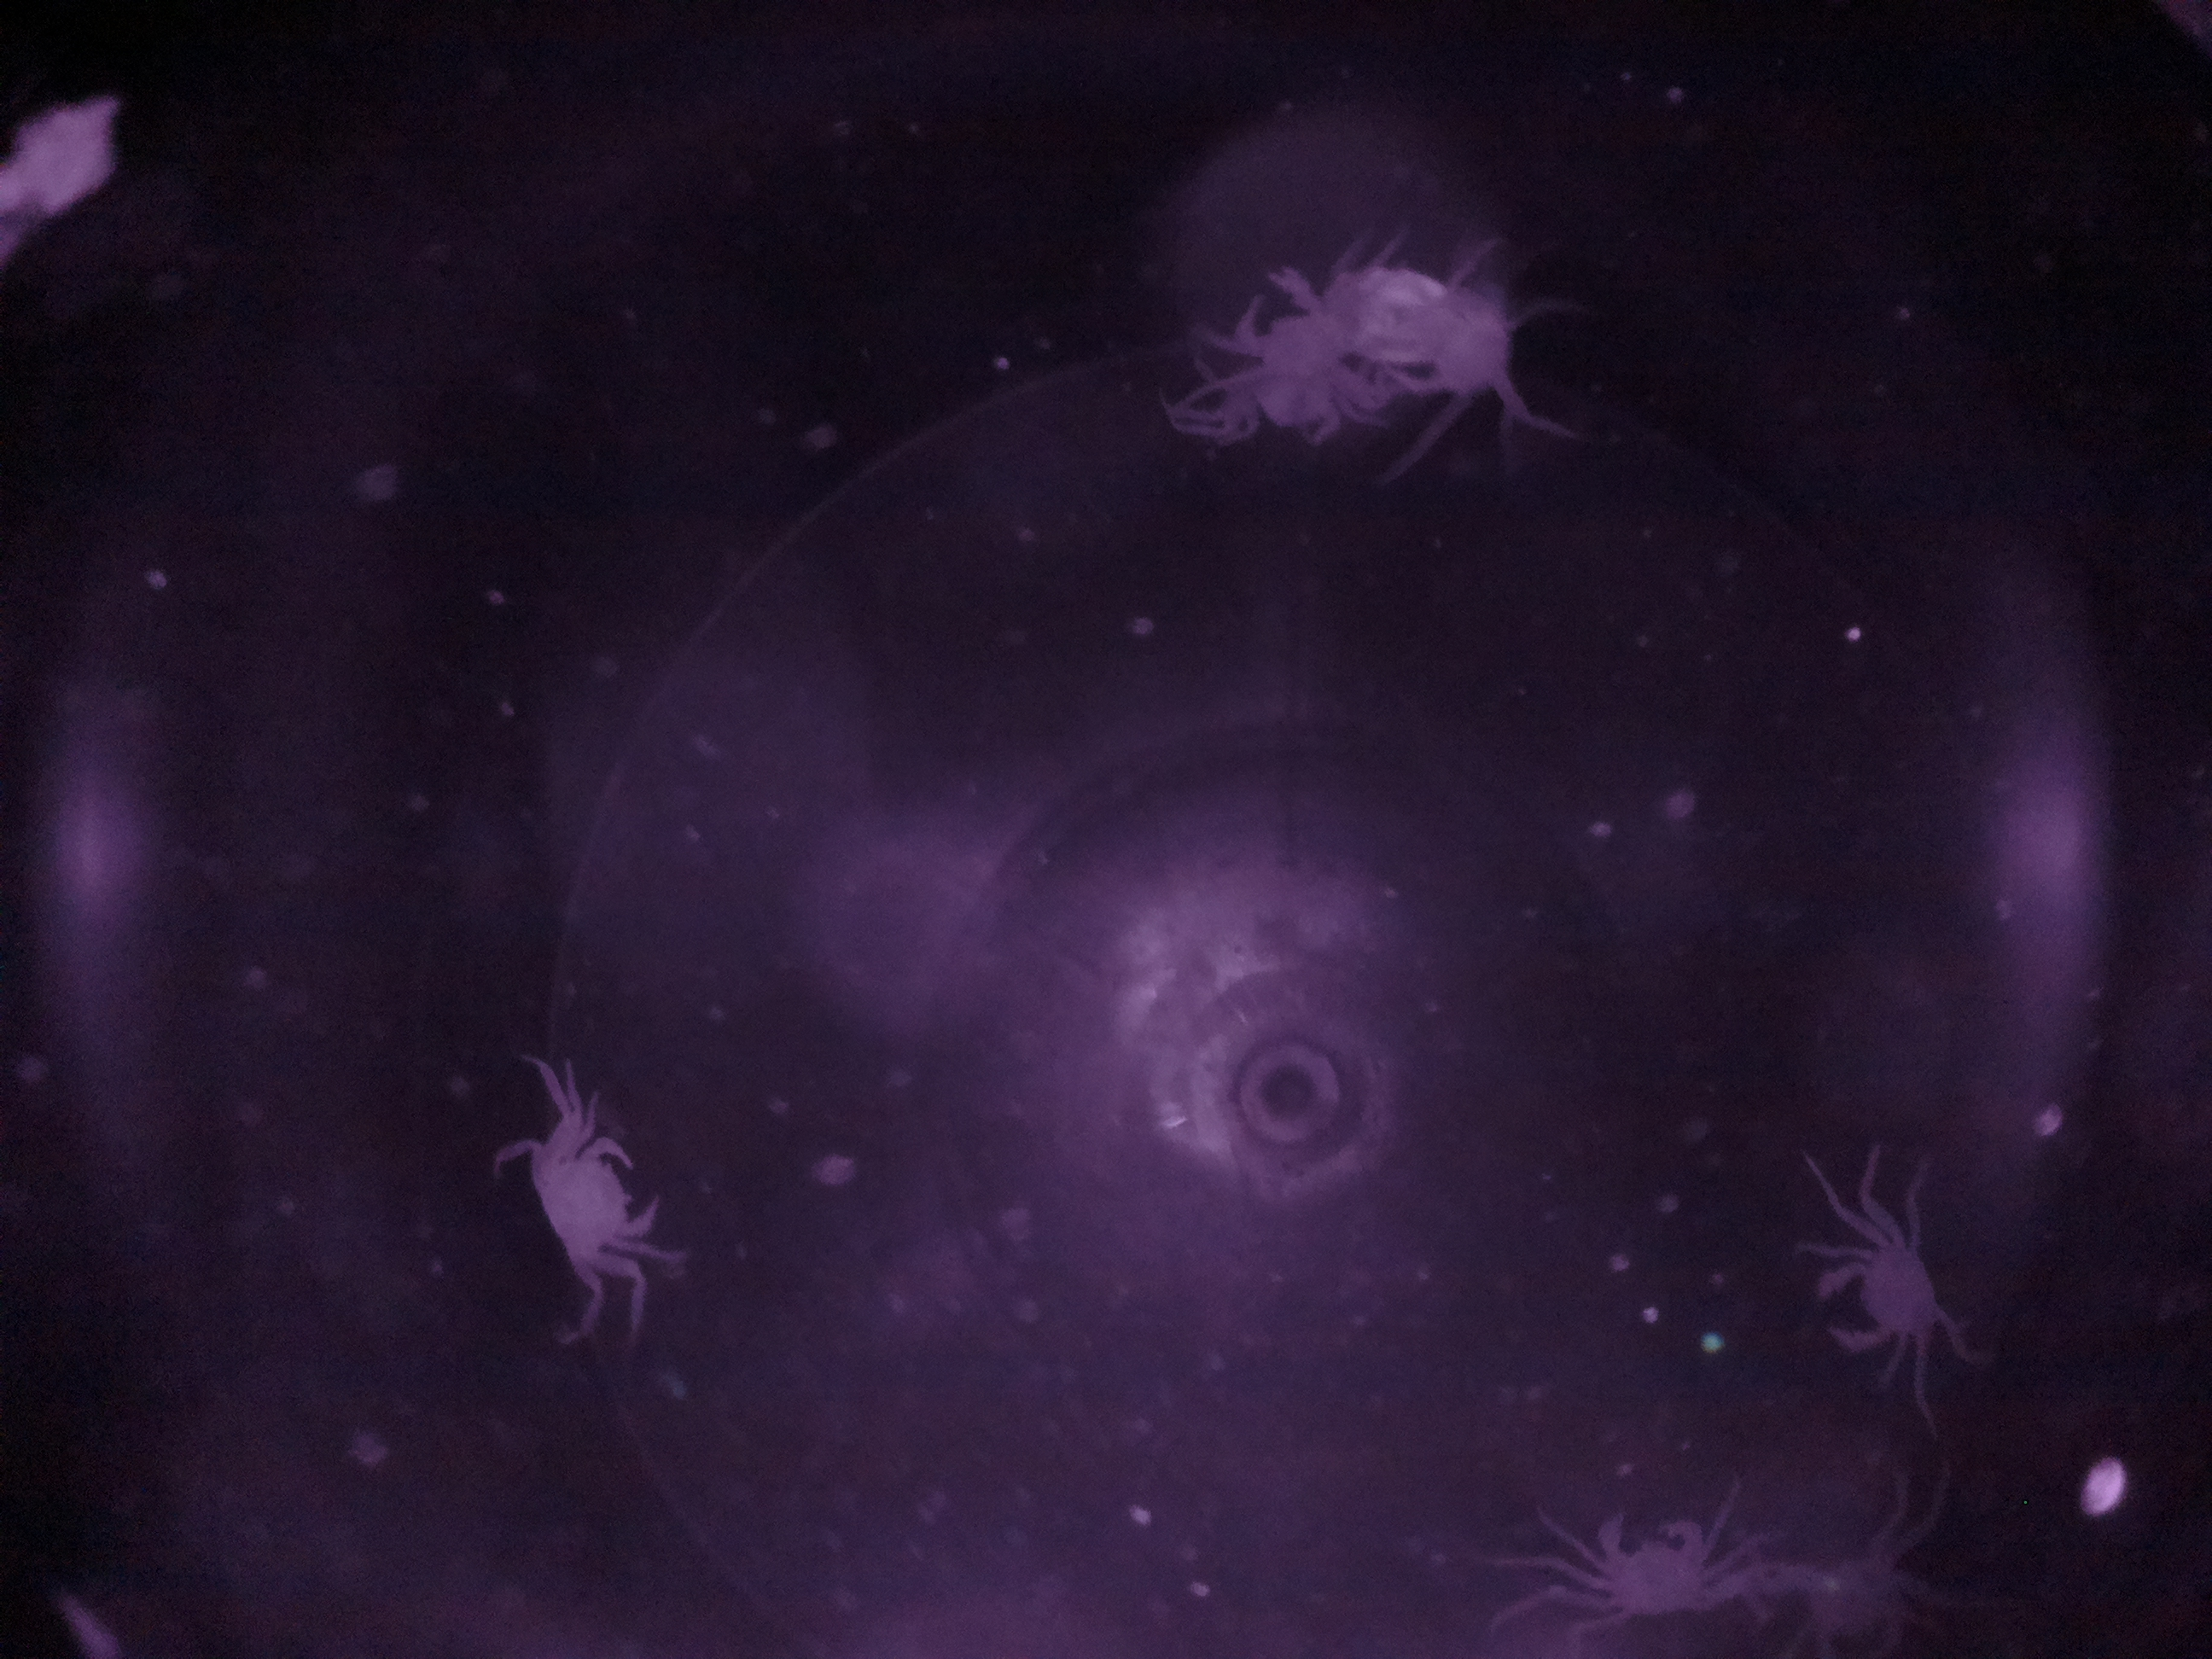Crab: (1552, 1483, 1745, 1642), (1796, 1216, 1975, 1384), (505, 1117, 669, 1295)
